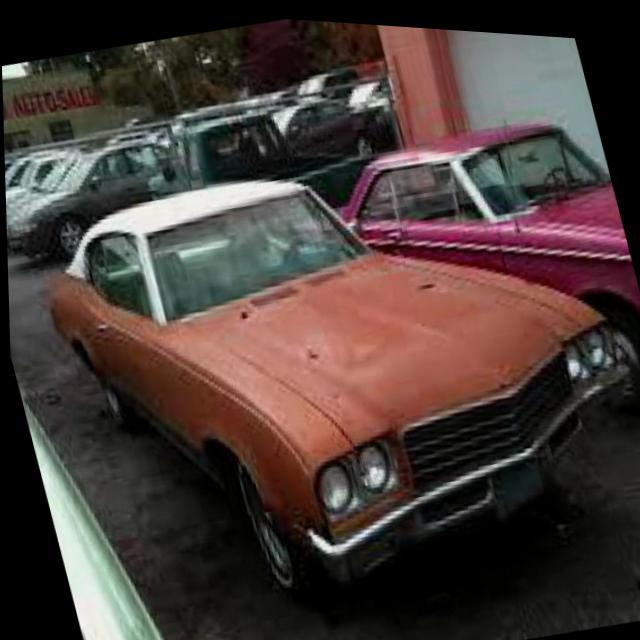Car-Damage: (301, 300, 411, 384)
